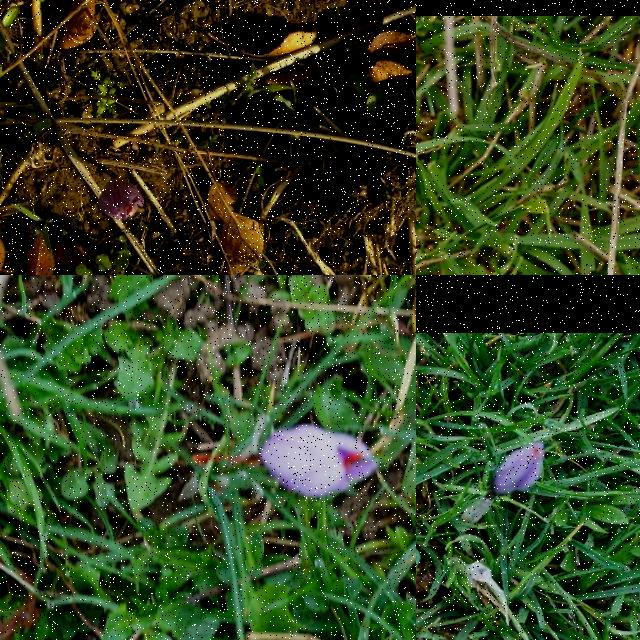flower: (192, 425, 378, 497), (489, 444, 545, 496), (97, 176, 143, 218)
